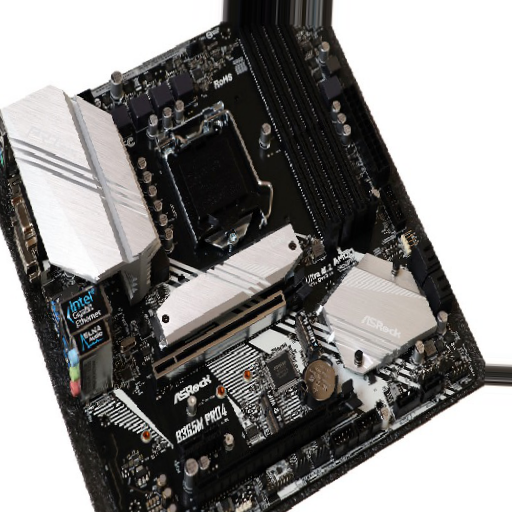CPU: (157, 103, 273, 249)
GPU: (187, 381, 362, 502), (149, 291, 285, 384)
MOTHERBOARD: (1, 2, 490, 512)
RAM: (231, 2, 381, 244)
SSD: (257, 389, 287, 430), (293, 312, 320, 356)
